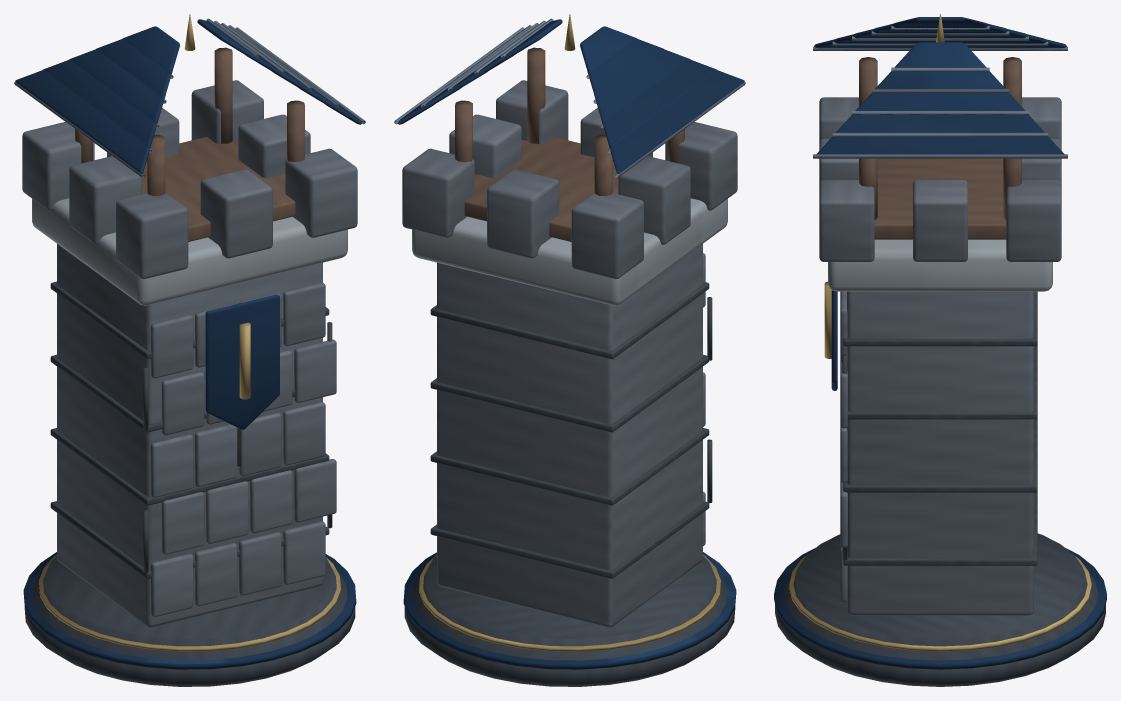
The model's file is human_tower.glb.
3 views of the same model, side by side, from view 1: azimuth 30°, elevation 25°; view 2: azimuth 150°, elevation 25°; view 3: azimuth 270°, elevation 25° (orthographic).
Visible parts, largest first — view 1: CharacterMesh; view 2: CharacterMesh; view 3: CharacterMesh.
Part boxes in pixels (<box>): CharacterMesh: <box>14,14,365,686</box>; CharacterMesh: <box>394,14,745,686</box>; CharacterMesh: <box>774,14,1106,686</box>.
Size of the model in its own units: 0.784 by 1.58 by 0.784.
8 materials, 8 textured.
